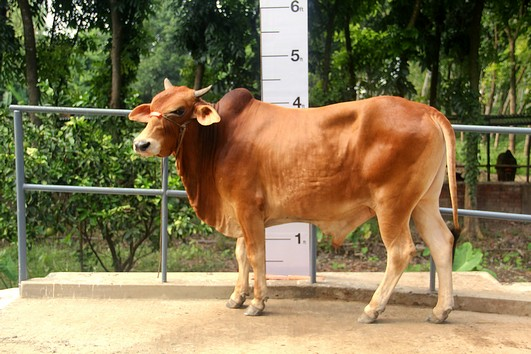cow: (129, 73, 470, 334)
